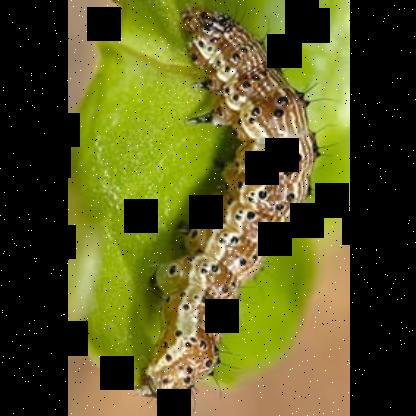oruga: (130, 1, 322, 403)
